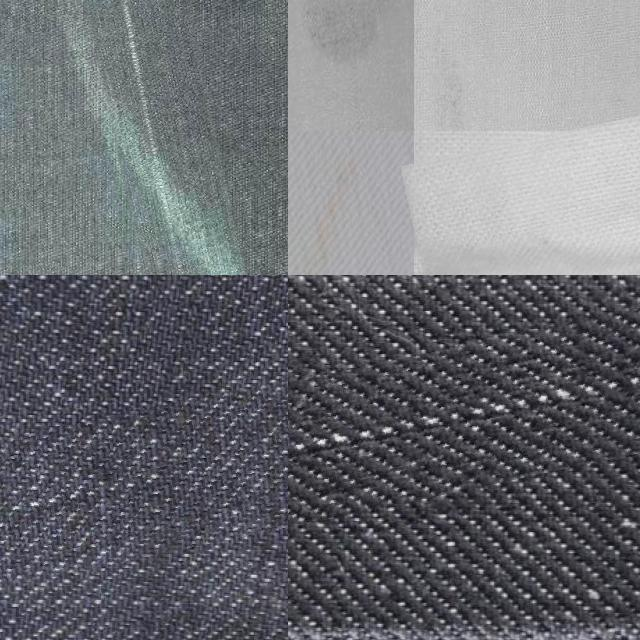Thread_other: (407, 114, 640, 275)
stains: (288, 322, 640, 528), (0, 391, 288, 591), (69, 0, 235, 275)
